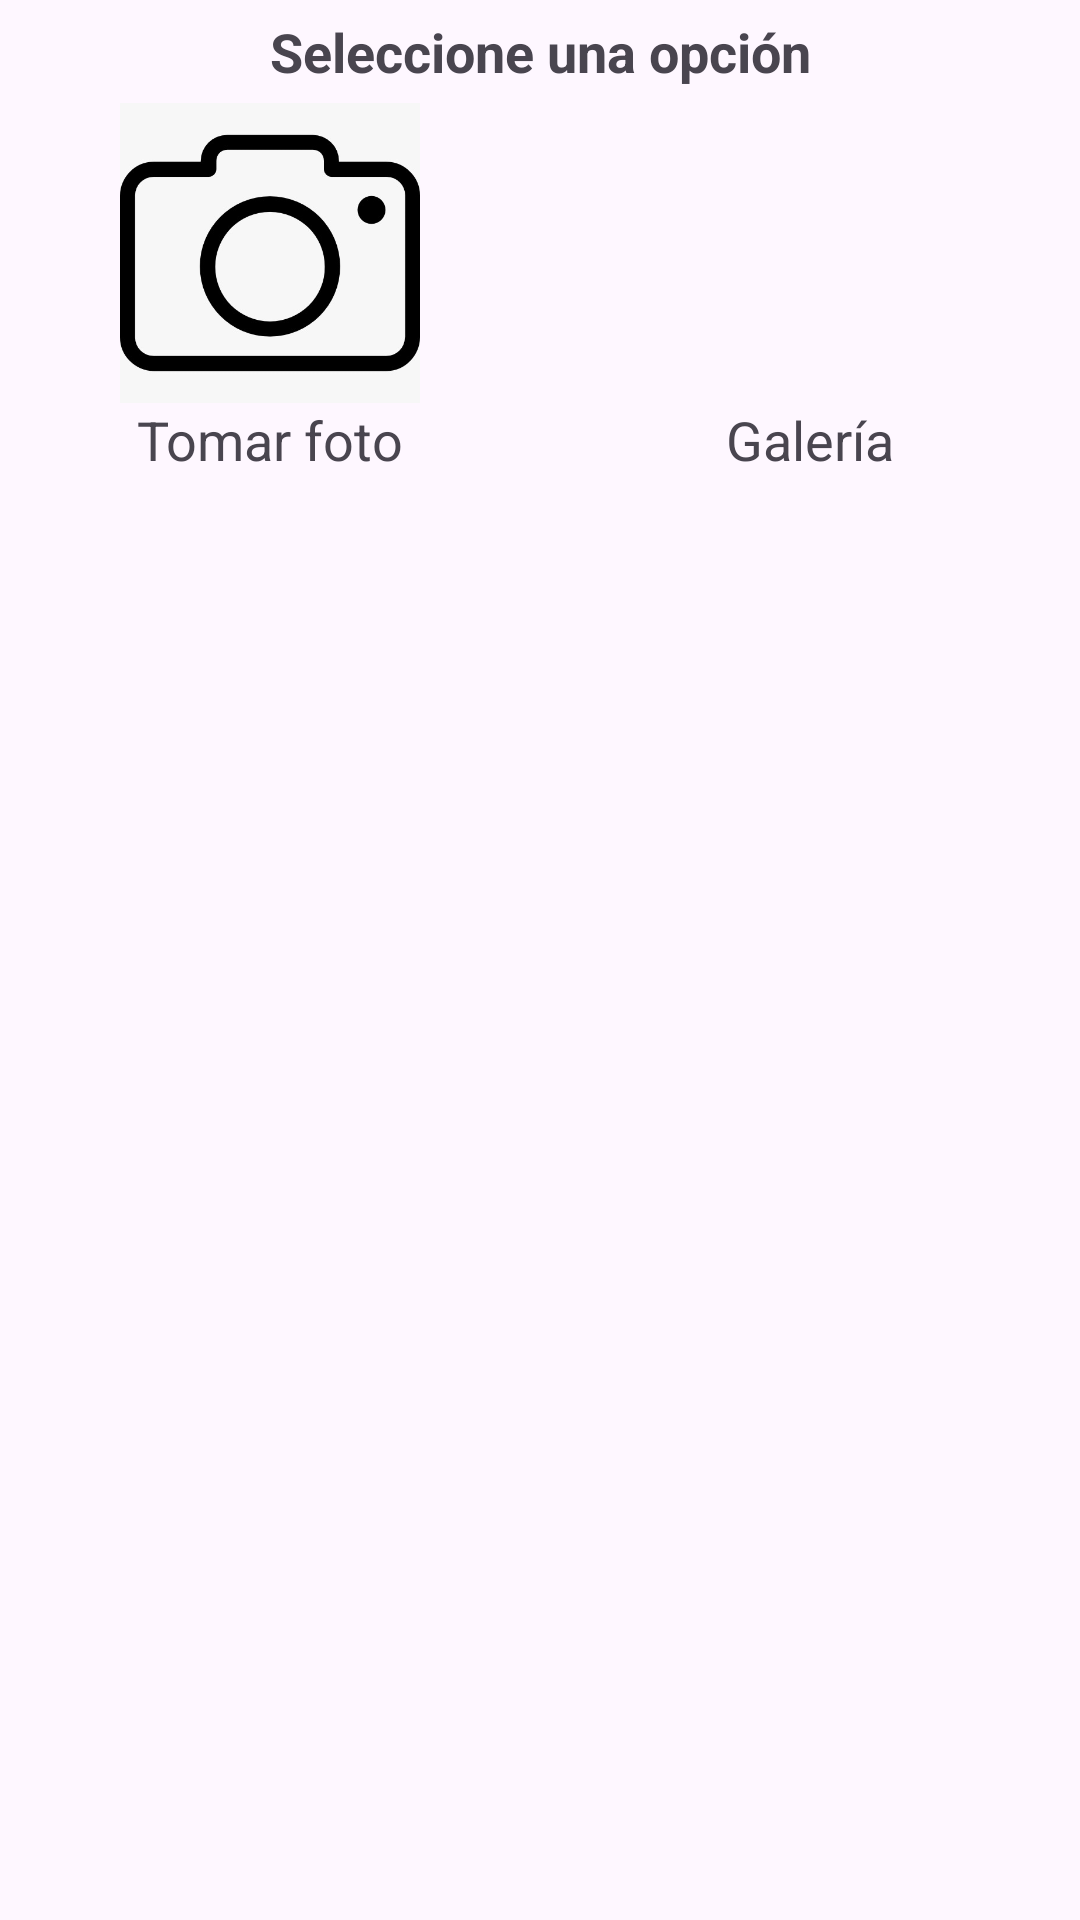

Icon click points for this 1080×1920 phone screenshot, format (x,y):
camara: (270,253)
